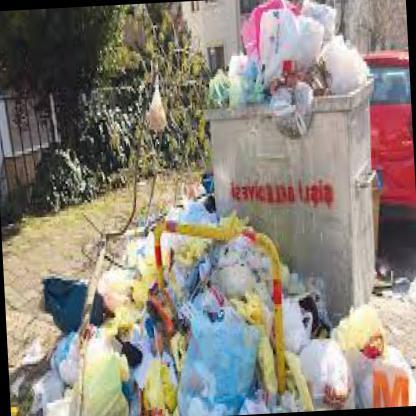Garbage: (198, 0, 342, 112), (134, 305, 254, 415), (299, 326, 384, 408), (66, 314, 126, 415), (272, 81, 320, 143), (316, 52, 364, 86), (209, 258, 251, 295)
